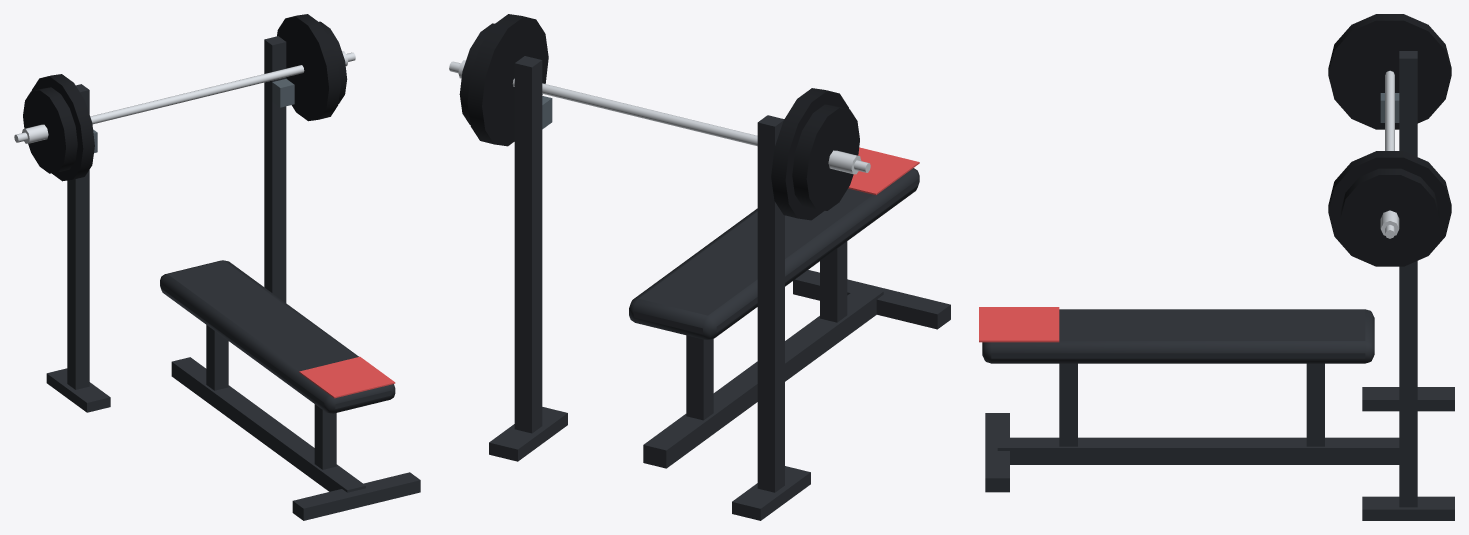
Rendered from workout_bench.glb.
3 views of the same model, side by side, from view 1: azimuth 30°, elevation 25°; view 2: azimuth 150°, elevation 25°; view 3: azimuth 270°, elevation 25° (orthographic). The views are drawn at different scales.
Visible parts, largest first — view 1: workout_bench; view 2: workout_bench; view 3: workout_bench.
Boxes of the visible parts, x1,y1,x2,y2 form: workout_bench: [14, 14, 420, 520]; workout_bench: [449, 14, 950, 520]; workout_bench: [979, 14, 1454, 520].
Size of the model in its own units: 1.44 by 1.33 by 1.54.
